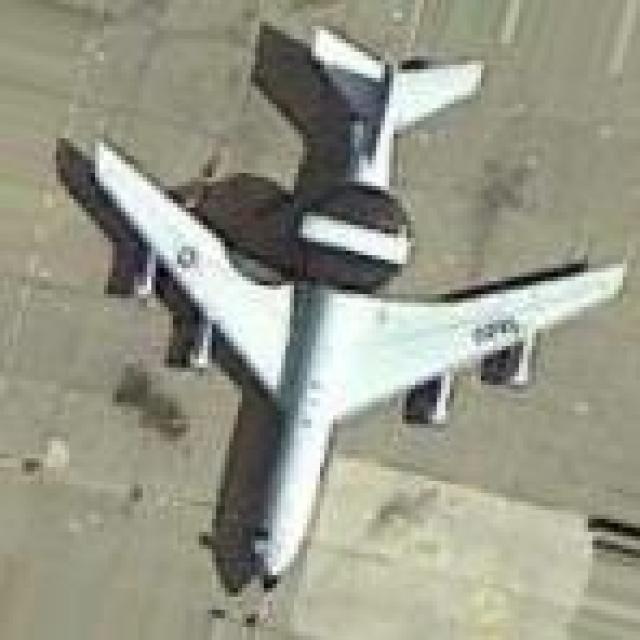E-3_TopDown: (48, 13, 627, 592)
